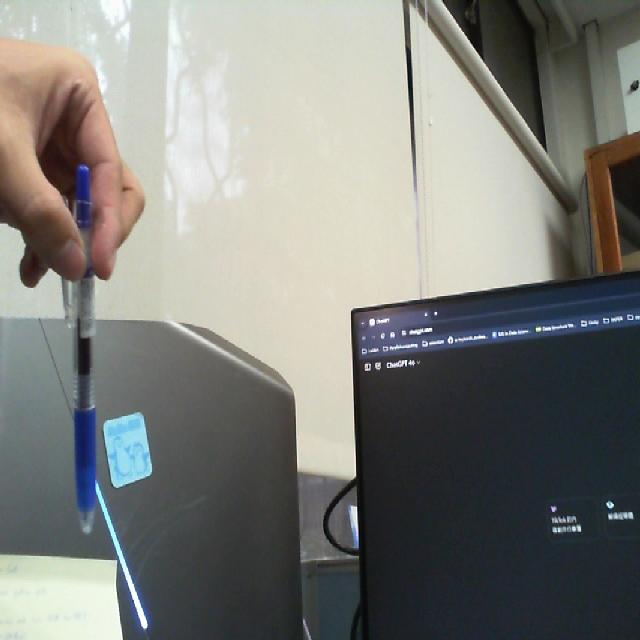Pen: (47, 159, 131, 566)
